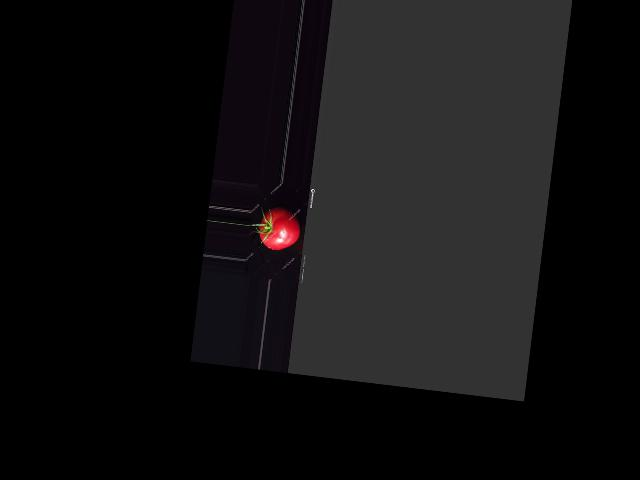tomato: (257, 205, 302, 252)
